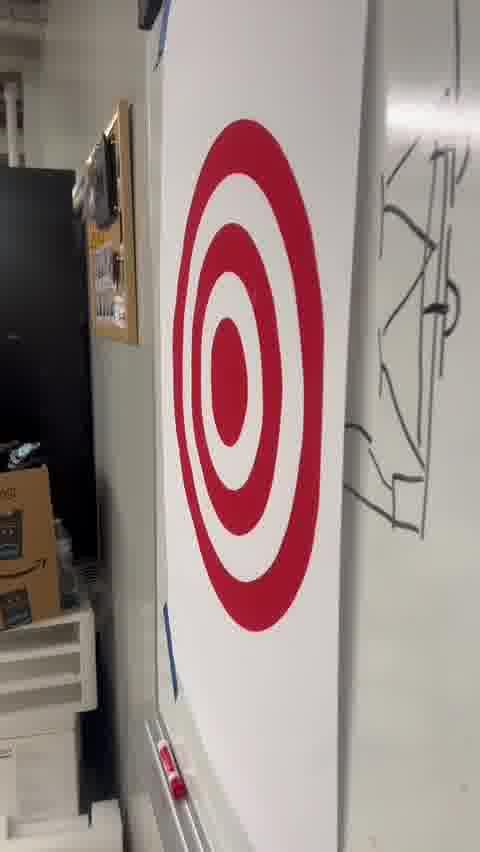target_red: (170, 120, 324, 631)
